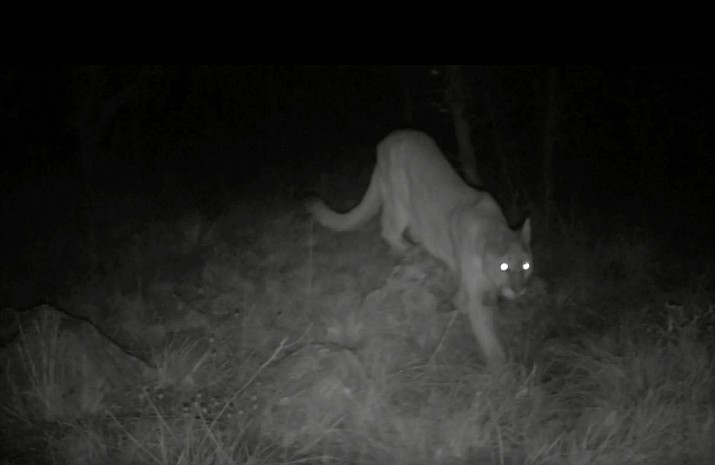mountain lion: (299, 103, 539, 388)
